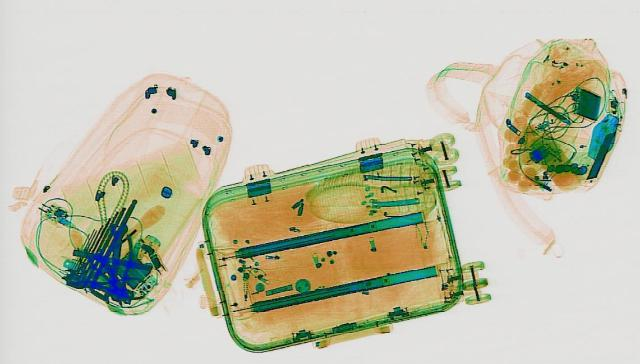Pliers: (62, 271, 146, 298)
Wrench: (102, 222, 128, 279)
